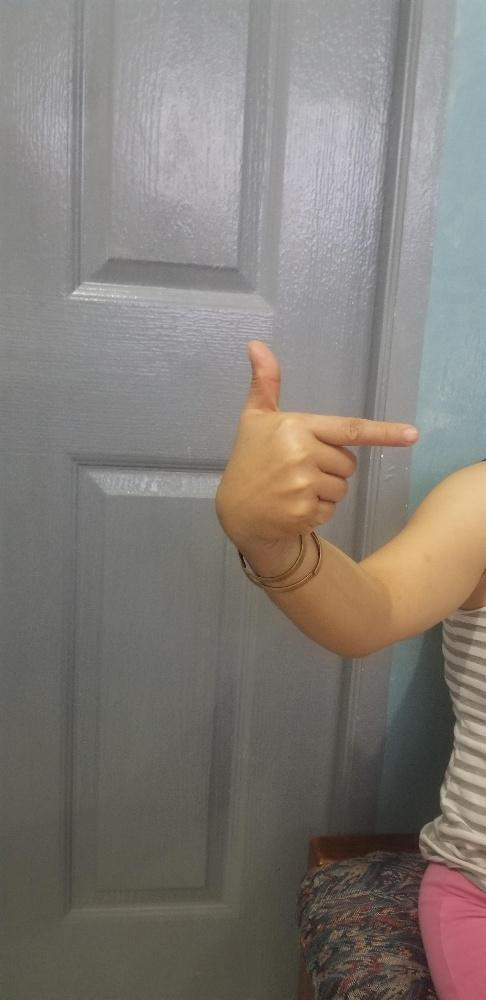g: (211, 339, 417, 541)
